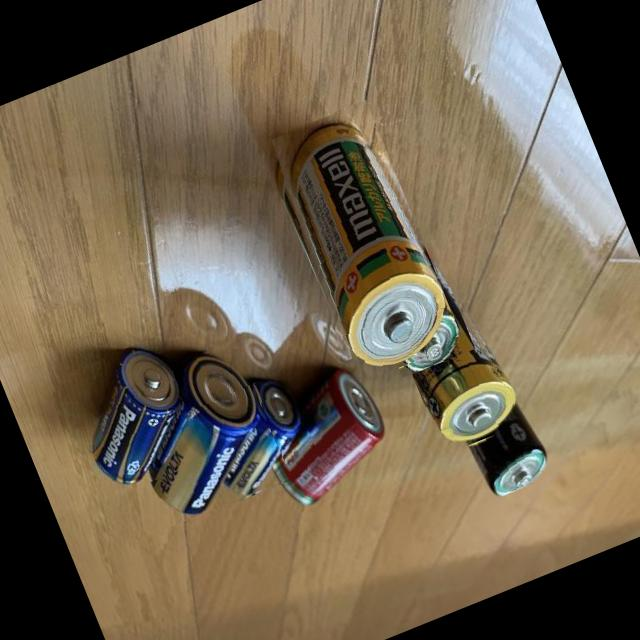Hazard: (253, 97, 462, 386), (366, 233, 520, 454), (110, 338, 290, 527), (242, 354, 406, 516), (56, 334, 206, 498), (351, 224, 473, 377), (188, 366, 322, 504), (450, 376, 556, 499)
